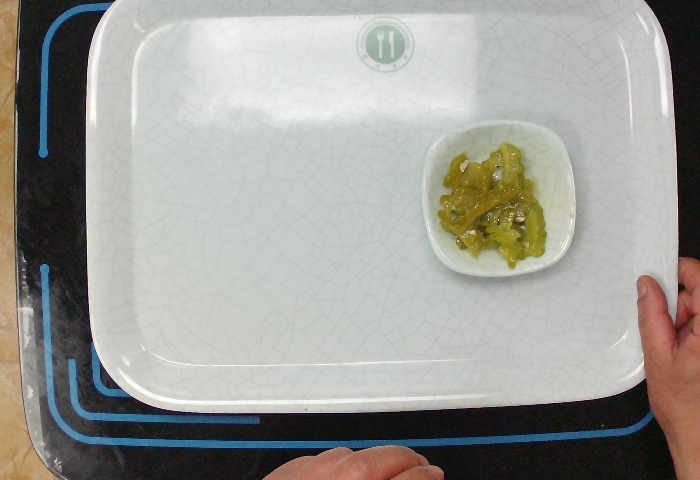JYsf-Si_Fang_Die: (418, 117, 579, 280)
